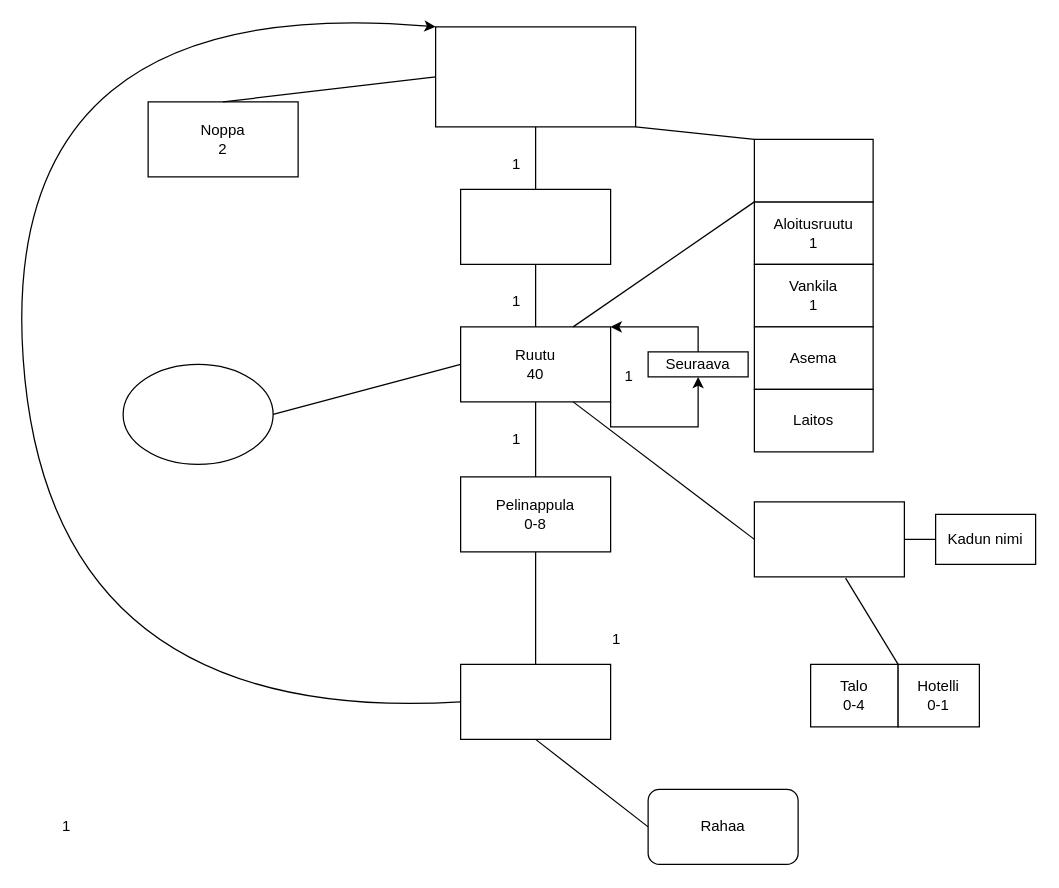
Some shapes in this 1059 by 888 pixel diagram are drawn without their labels. Here are the shapes that lost their labels. From the top down, the centre of each, then its label:
the point at 535,76: Monopolipeli 1
the point at 813,170: Sattuma Yhteismaa
the point at 535,226: Pelilauta 1
the point at 197,413: Toiminto
the point at 828,539: Katu
the point at 535,701: Pelaaja 2-8
